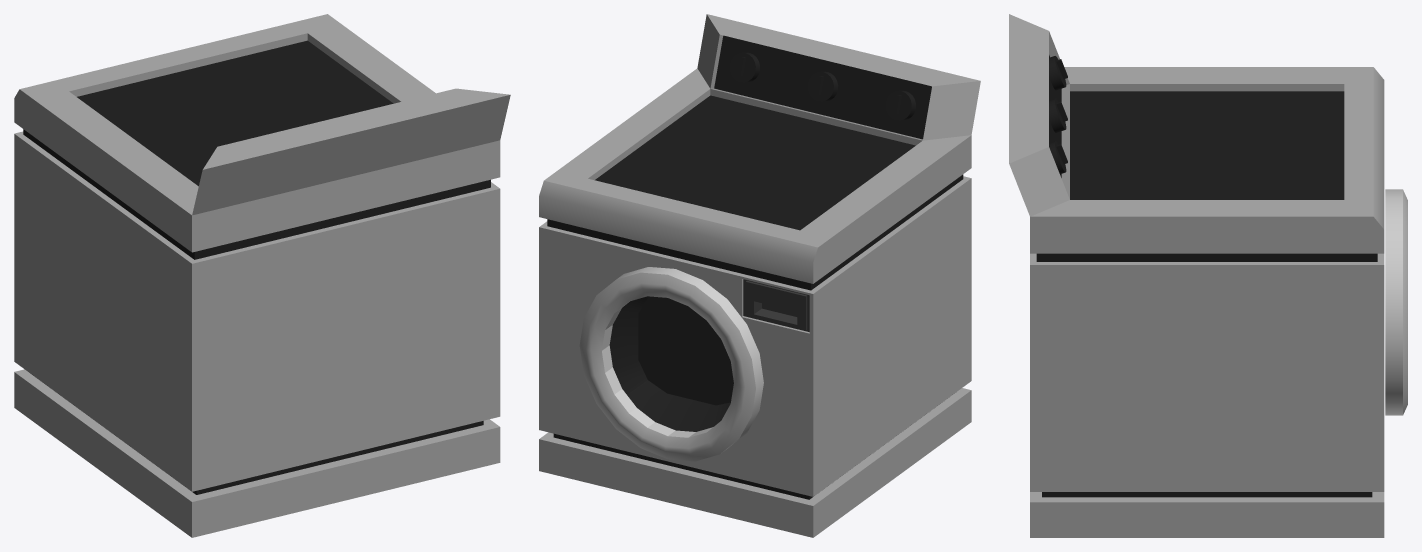
Rendered from WashingMachineModel.fbx.
3 views of the same model, side by side, from view 1: azimuth 30°, elevation 25°; view 2: azimuth 150°, elevation 25°; view 3: azimuth 270°, elevation 25° (orthographic). The views are drawn at different scales.
Visible parts, largest first — view 1: WashingMachineModel; view 2: WashingMachineModel; view 3: WashingMachineModel.
Part boxes in pixels (<box>): WashingMachineModel: <box>14,14,510,537</box>; WashingMachineModel: <box>539,14,980,537</box>; WashingMachineModel: <box>1009,14,1407,537</box>.
Bounding box in the file's own units: 113 × 131 × 127.
